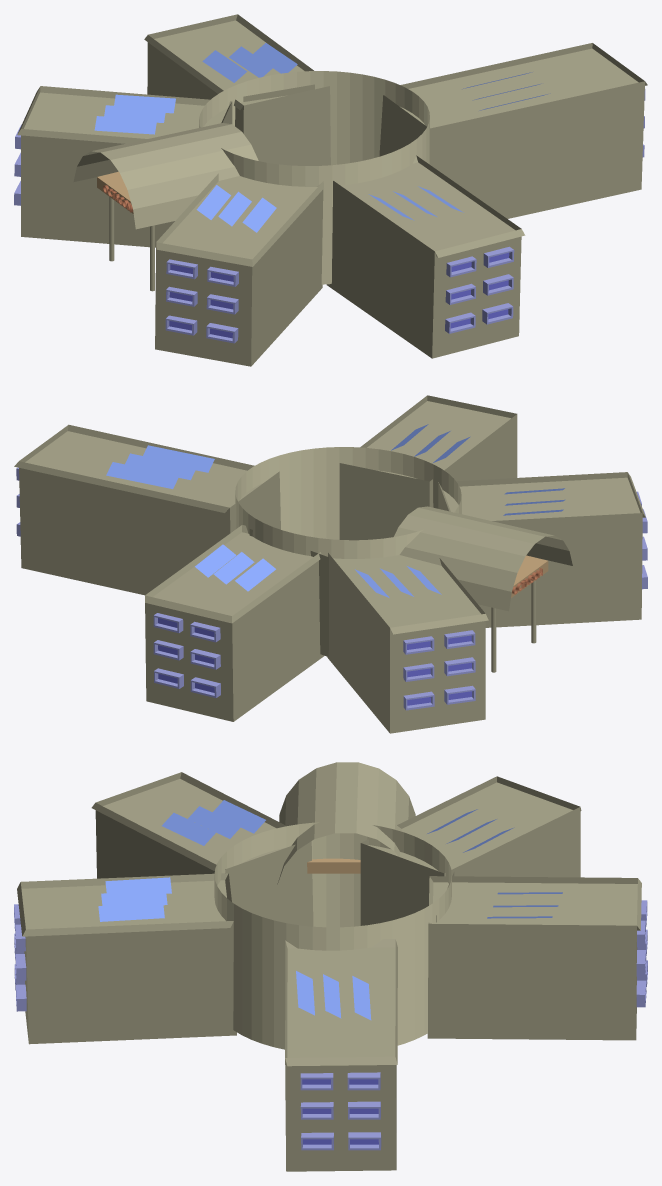
The model's file is octagonstar.glb.
The picture shows the model from 3 angles, top to bottom: view 1: azimuth 30°, elevation 25°; view 2: azimuth 150°, elevation 25°; view 3: azimuth 270°, elevation 25°; orthographic projection. The views are drawn at different scales.
Parts seen in each view (by area): view 1: Cube.004, Cube.002, Cube.001, Cube.008, Cube.003, Cylinder, Cylinder.001, Cube; view 2: Cube.004, Cube.003, Cube.008, Cube.001, Cube.002, Cylinder, Cylinder.001, Cube.159, Cube; view 3: Cube.002, Cube.003, Cube.004, Cylinder, Cube.001, Cube.008, Cylinder.001, Cube.
Part boxes in pixels (x1,y1,x2,y2): Cube.004: (379,43,647,218); Cube.002: (326,155,525,358); Cube.001: (155,173,323,366); Cube.008: (14,86,232,247); Cube.003: (144,14,330,165); Cylinder: (199,71,429,284); Cylinder.001: (73,123,258,229); Cube: (97,171,133,213); Cube.004: (14,424,280,595); Cube.003: (145,525,324,721); Cube.008: (327,553,488,733); Cube.001: (438,472,647,627); Cube.002: (339,395,517,540); Cylinder: (235,447,461,558); Cylinder.001: (394,506,572,611); Cube.159: (249,529,328,656); Cube: (511,555,548,597); Cube.002: (14,873,236,1044); Cube.003: (427,876,647,1040); Cube.004: (285,939,397,1171); Cylinder: (214,822,451,1049); Cube.001: (91,772,313,926); Cube.008: (360,776,581,925); Cylinder.001: (277,762,415,884); Cube: (307,858,360,873).
Size of the model in its own units: 55.91 by 13.26 by 52.51.
